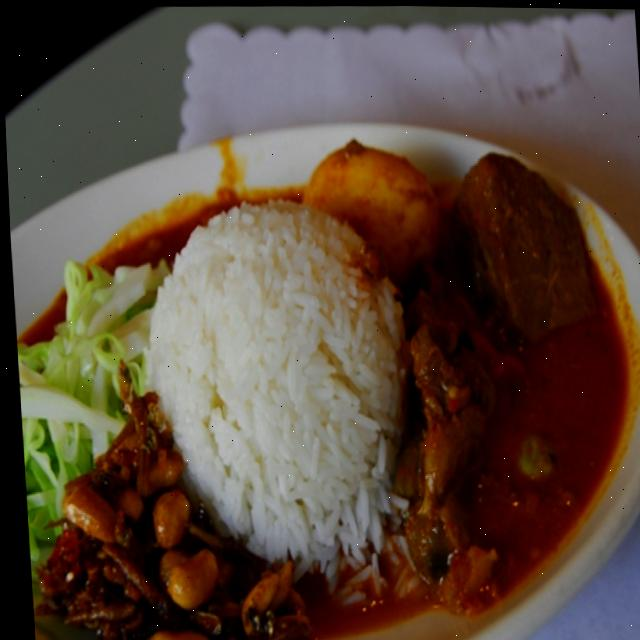米饭主食: (2, 52, 640, 640)
